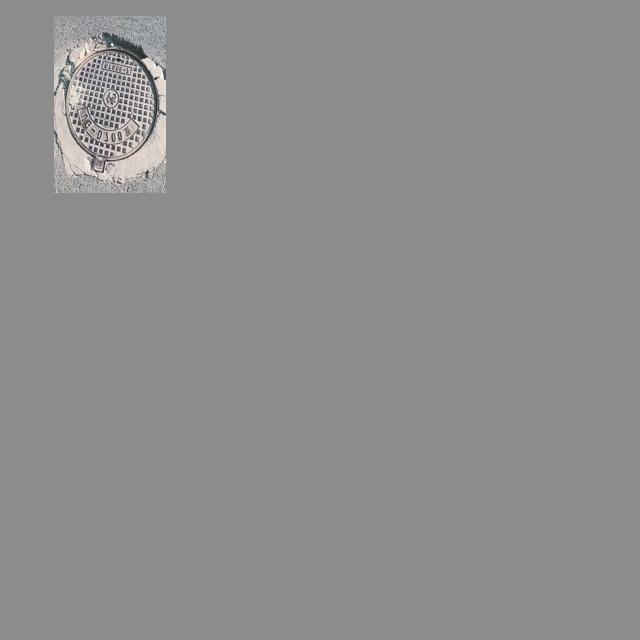circle: (58, 36, 163, 179)
